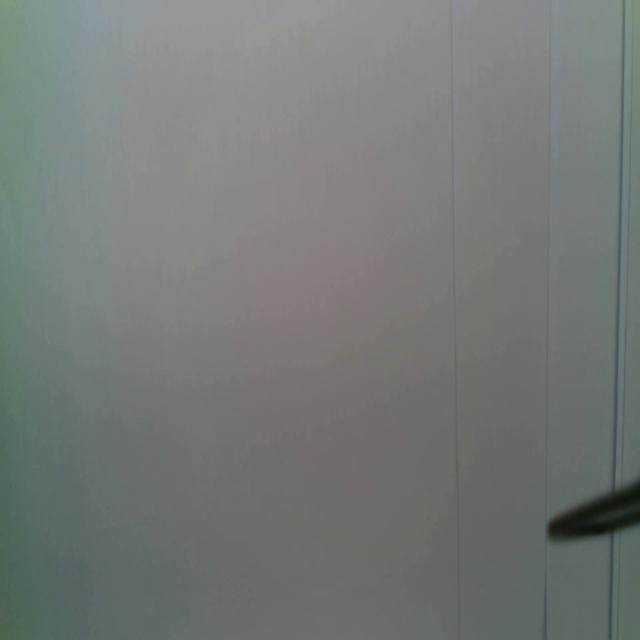crease: (448, 0, 463, 640), (541, 0, 553, 636), (612, 0, 627, 490), (621, 4, 636, 482), (616, 531, 624, 639), (608, 533, 616, 640)
